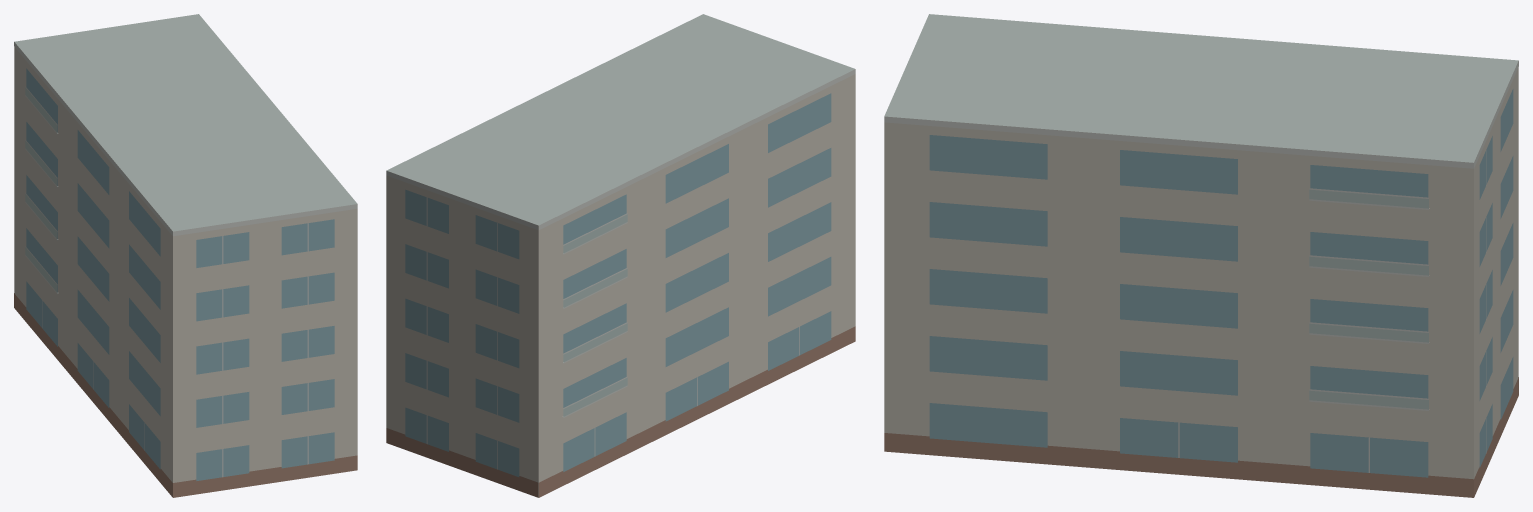
Rendered from survey-upis-32531040.glb.
3 views of the same model, side by side, from view 1: azimuth 30°, elevation 25°; view 2: azimuth 150°, elevation 25°; view 3: azimuth 270°, elevation 25° (orthographic). The views are drawn at different scales.
Visible parts, largest first — view 1: survey-upis-32531040.tmp; view 2: survey-upis-32531040.tmp; view 3: survey-upis-32531040.tmp.
Boxes of the visible parts, <box> form: survey-upis-32531040.tmp: <box>14,14,357,497</box>; survey-upis-32531040.tmp: <box>386,14,855,497</box>; survey-upis-32531040.tmp: <box>884,14,1518,497</box>.
Size of the model in its own units: 13.16 by 13.8 by 23.7.
